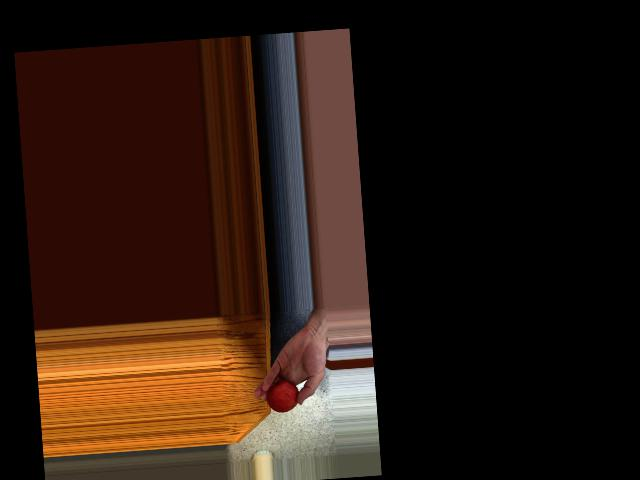apple: (264, 374, 301, 414)
